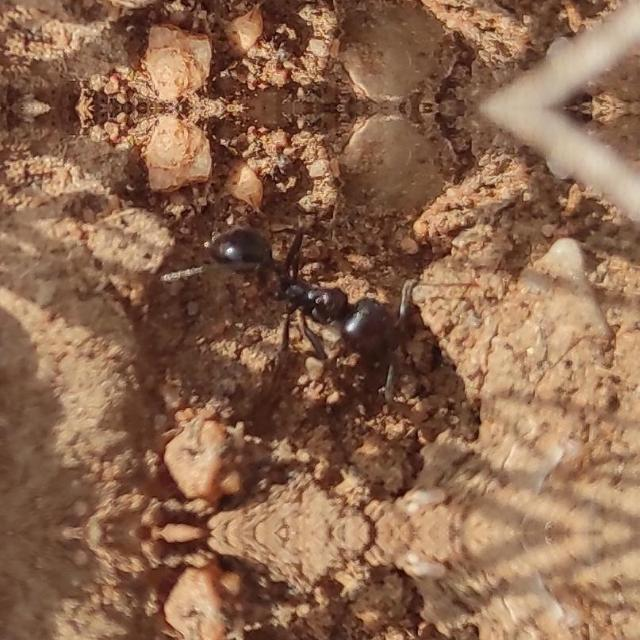Messor: (210, 208, 426, 380)
